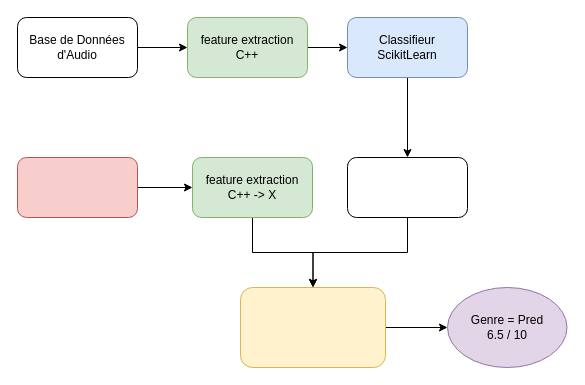
This 585x385 diagram has some shape labels left out. The shapes that lost their labels are listed below. From the top down, each one's centre as x and y in pixels, then its label:
At (77,187): "audio.au".
At (407,187): "weight.csv bias.csv".
At (313,327): "Estimateur C++ pred = argmax(weight*X + bias)".
